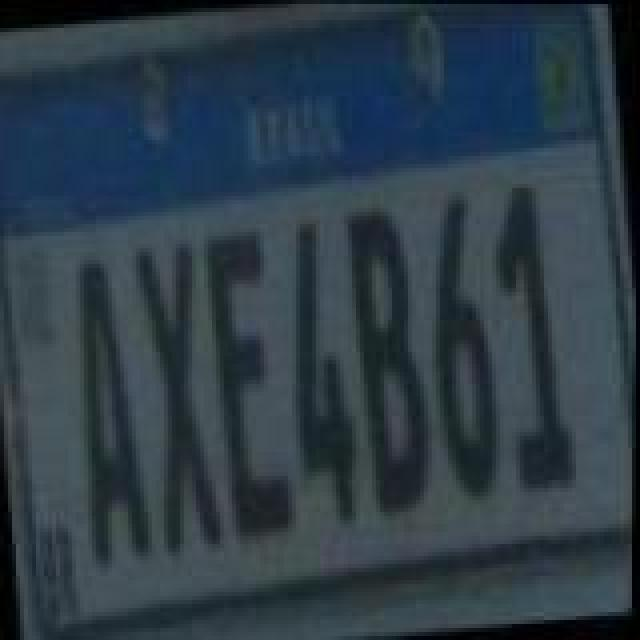1: (482, 174, 582, 506)
4: (278, 214, 370, 526)
6: (416, 186, 512, 510)
A: (66, 254, 162, 570)
B: (340, 198, 444, 522)
E: (204, 232, 304, 544)
X: (132, 236, 232, 564)
